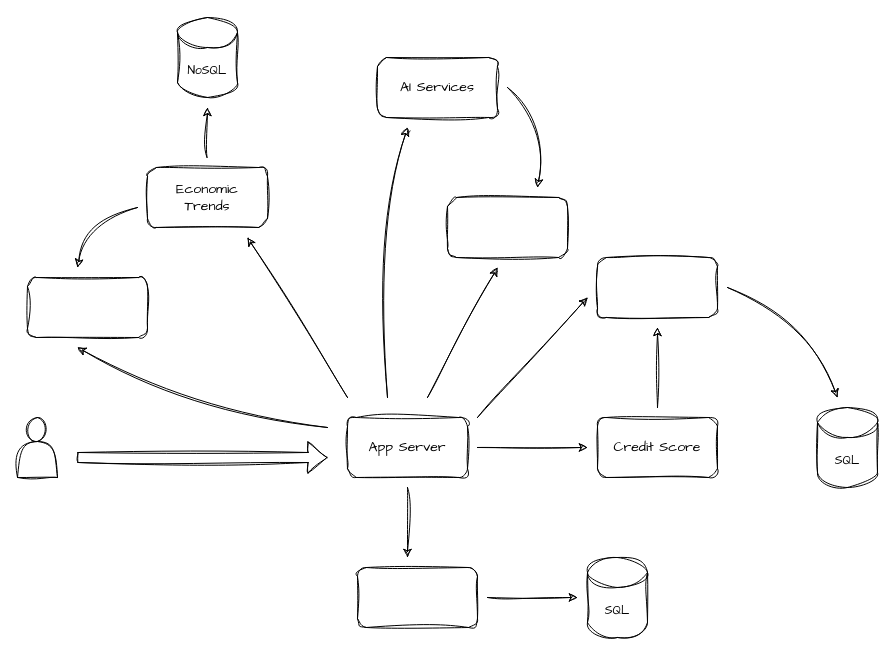
The diagram is 895 pixels wide and 655 high, and some of its shapes have lost their labels. The shapes that lost their labels are listed below. From the top down, each one's centre as x and y in pixels, then its label:
At (x=507, y=227): "AI Services Cache".
At (x=87, y=307): "Economic Trends Cache".
At (x=657, y=287): "User Details".
At (x=417, y=597): "Bank Details".
